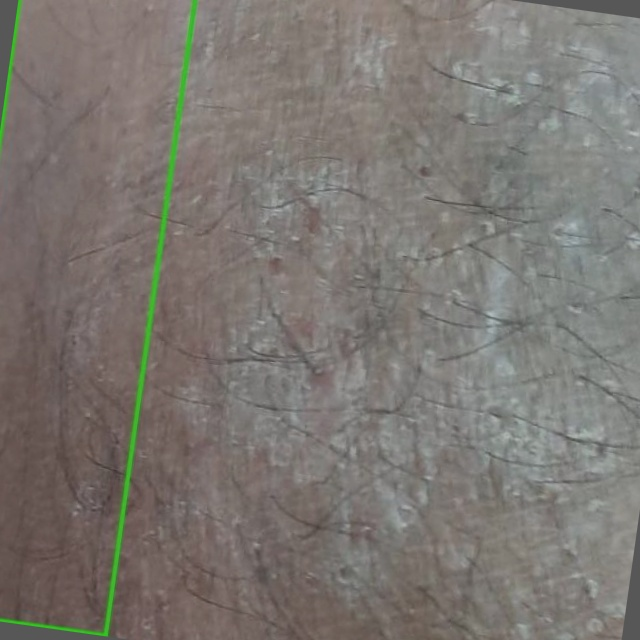Contact Dermatitis: (0, 0, 194, 635)
